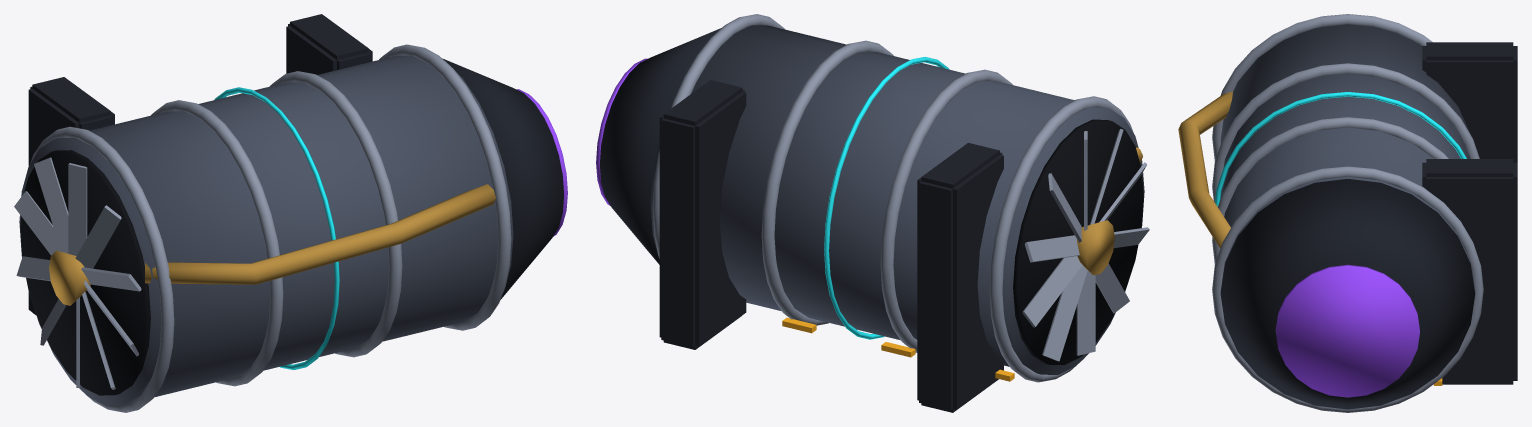
Rendered from shooter-turbine.glb.
The picture shows the model from 3 angles, left to right: view 1: azimuth 30°, elevation 25°; view 2: azimuth 150°, elevation 25°; view 3: azimuth 270°, elevation 25°; orthographic projection. The views are drawn at different scales.
Visible parts, largest first — view 1: Model Mesh, Spin+ Fan Mesh; view 2: Model Mesh, Spin+ Fan Mesh; view 3: Model Mesh.
Part boxes in pixels (x1,y1,x2,y2): Model Mesh: (19, 14, 567, 412); Spin+ Fan Mesh: (14, 157, 141, 389); Model Mesh: (596, 14, 1144, 412); Spin+ Fan Mesh: (1022, 129, 1149, 361); Model Mesh: (1178, 14, 1517, 412).
Bounding box in the file's own units: 4.7 × 2.56 × 3.2.
Materials: 2 (2 with a texture image).
